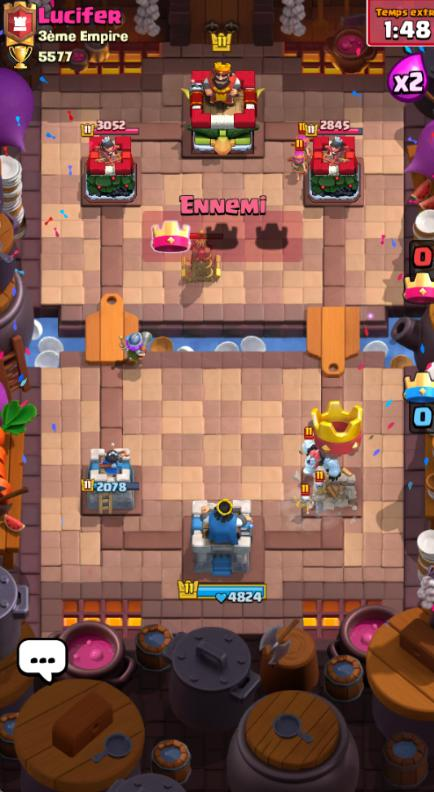mousquetaire: (116, 330, 155, 365)
squelette: (295, 489, 317, 515), (308, 474, 332, 492)
